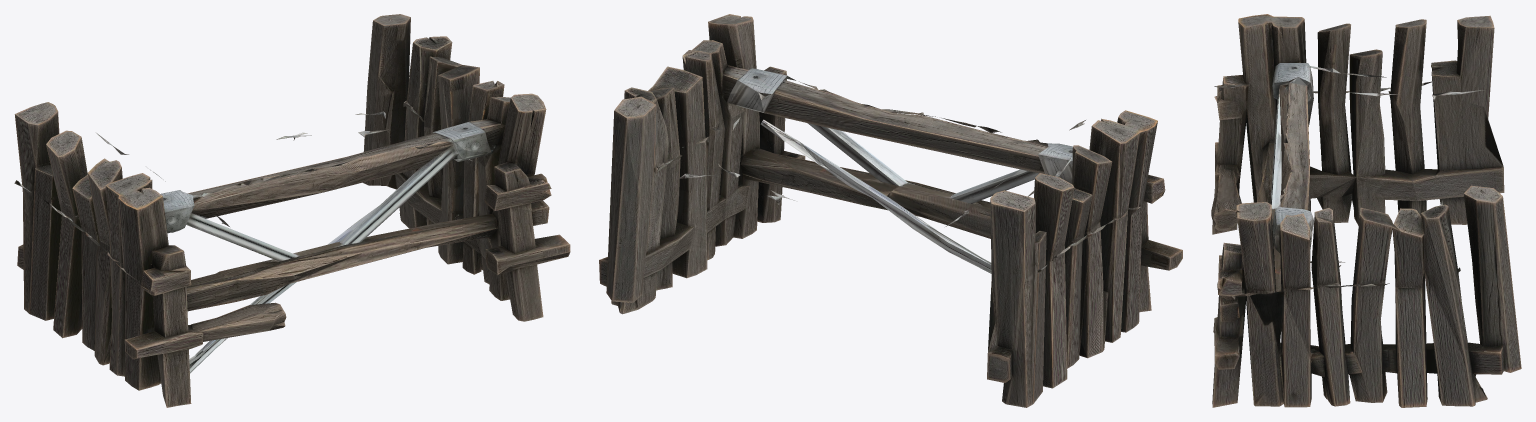
Rendered from barricade.glb.
3 renders of one model, left to right at view 1: azimuth 30°, elevation 25°; view 2: azimuth 150°, elevation 25°; view 3: azimuth 270°, elevation 25°, orthographic. The views are drawn at different scales.
Bounding box in the file's own units: 1.9 × 0.8652 × 1.17.
1 material, 1 textured.
